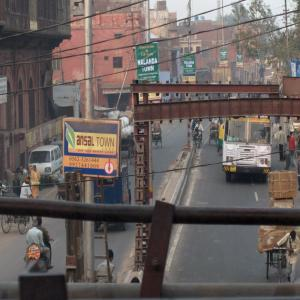Vehicle-registration-plate: (231, 168, 237, 173)
